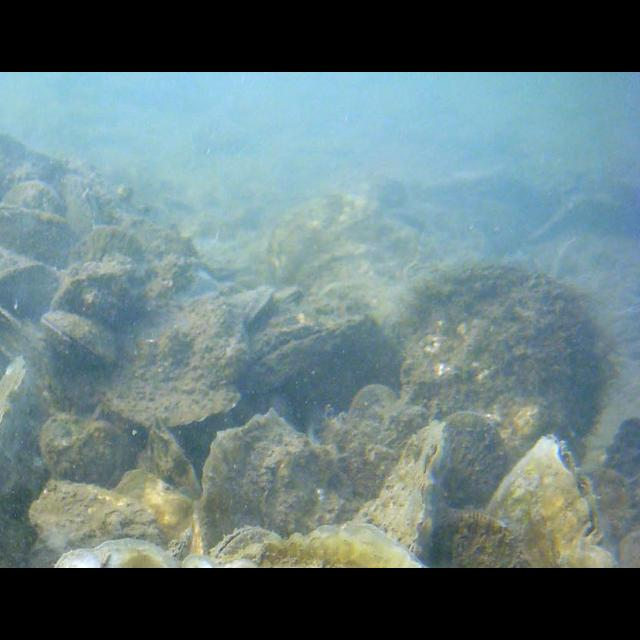Oyster-Closed: (377, 259, 617, 480), (193, 407, 358, 555), (94, 295, 248, 424), (298, 278, 404, 436), (349, 423, 449, 568), (241, 317, 369, 395), (34, 481, 168, 551), (220, 524, 426, 568), (322, 415, 400, 509), (39, 414, 136, 489), (57, 537, 259, 568), (111, 470, 199, 541), (431, 512, 529, 568), (48, 261, 131, 327), (0, 203, 78, 270), (446, 415, 502, 508), (65, 227, 143, 289), (42, 311, 120, 372), (146, 422, 199, 499), (0, 357, 29, 494), (263, 218, 328, 276), (587, 467, 635, 543), (0, 264, 62, 322), (6, 183, 64, 218), (352, 386, 397, 424), (231, 287, 275, 324), (273, 289, 303, 305)
Oyster-Open: (485, 436, 614, 568), (338, 209, 424, 265), (212, 525, 284, 557)
